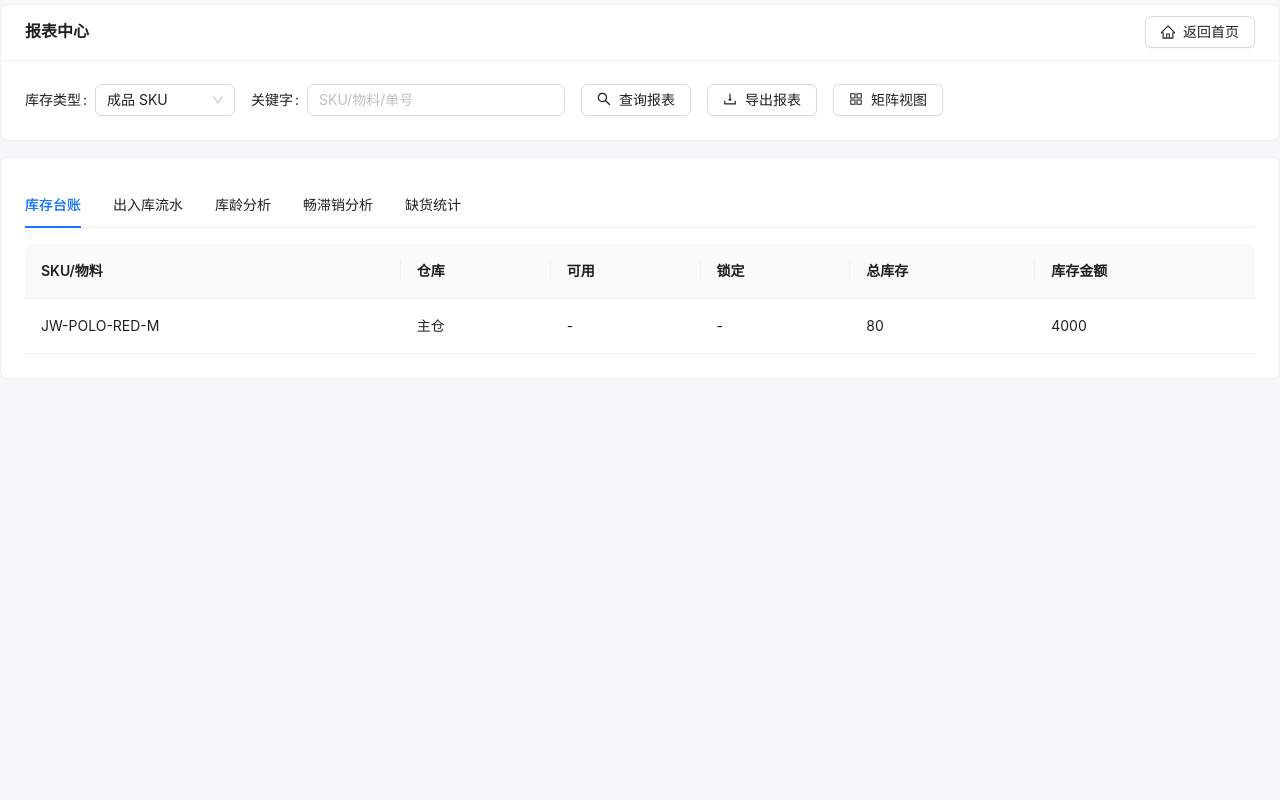
Test case: ReportCenterPage › loads the ledger matrix view
Expected: the text "JW-POLO-RED-M" is shown, [25,298,401,354]
Click the button "矩阵视图": (888, 100) [833,84,943,116]
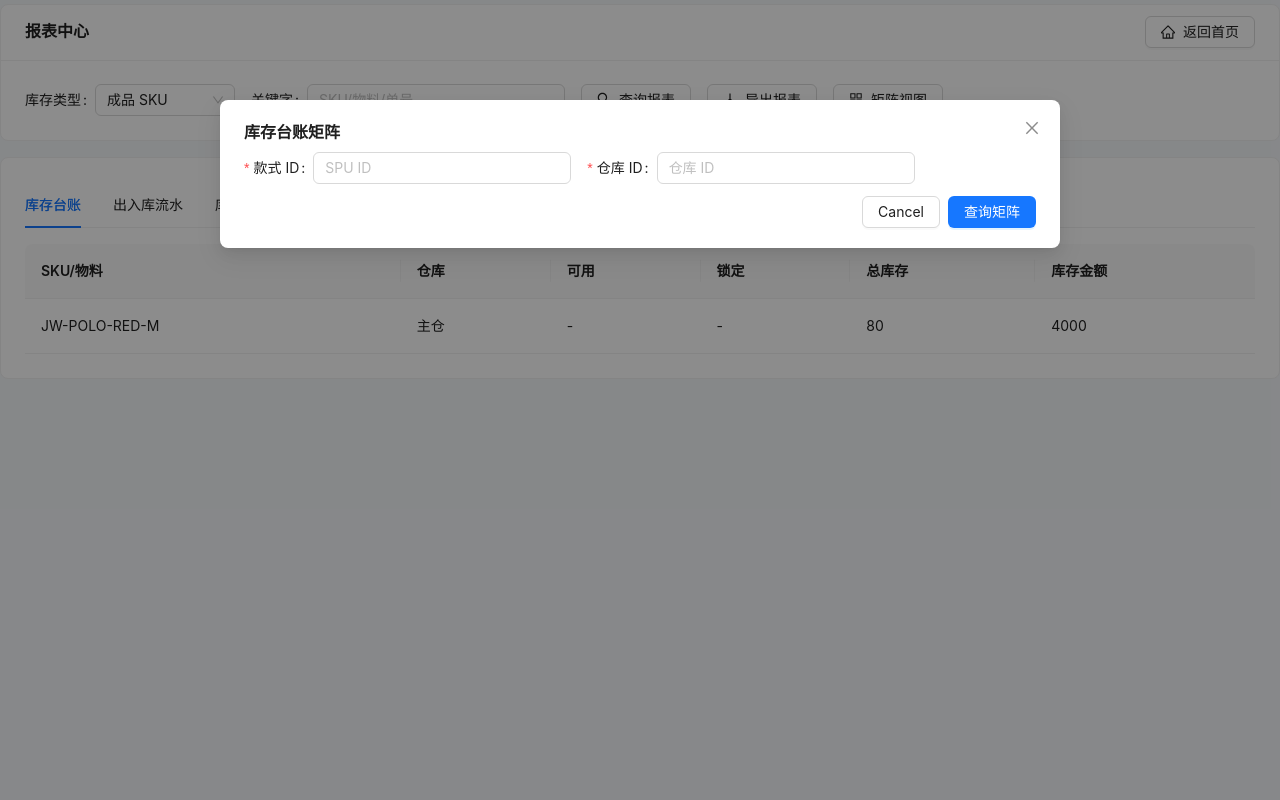
In the field labelled "款式 ID": (434, 168) [325,157,543,179], type "80001"
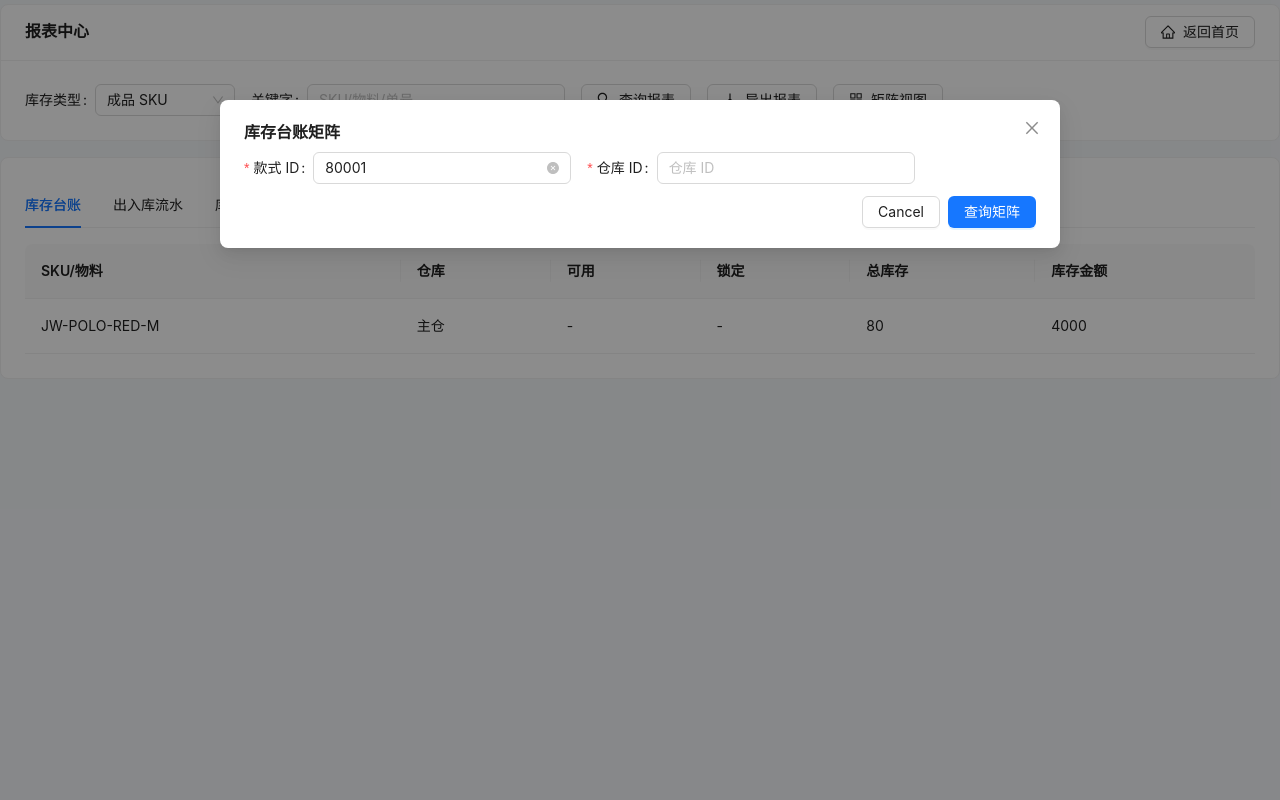
In the field labelled "仓库 ID": (778, 168) [669,157,887,179], type "30001"
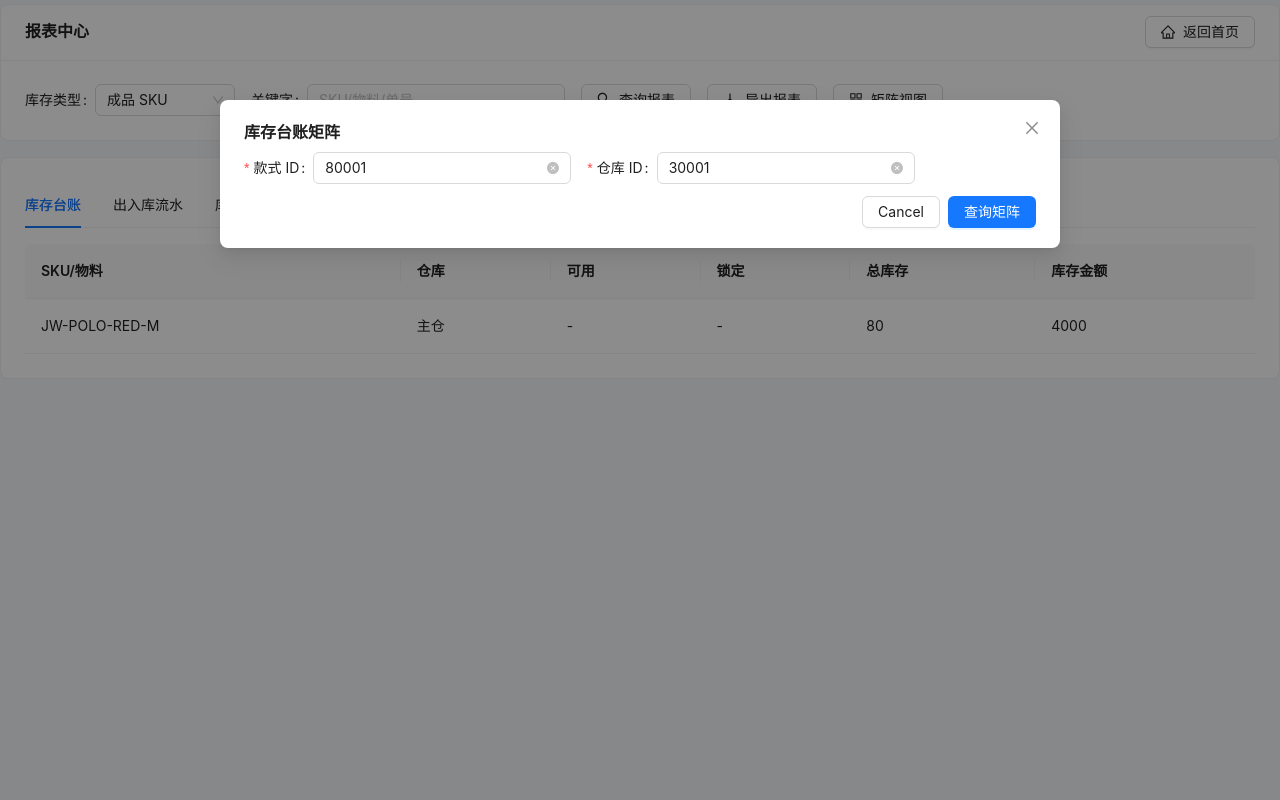
Click the button "查询矩阵": (992, 212) [948,196,1036,228]
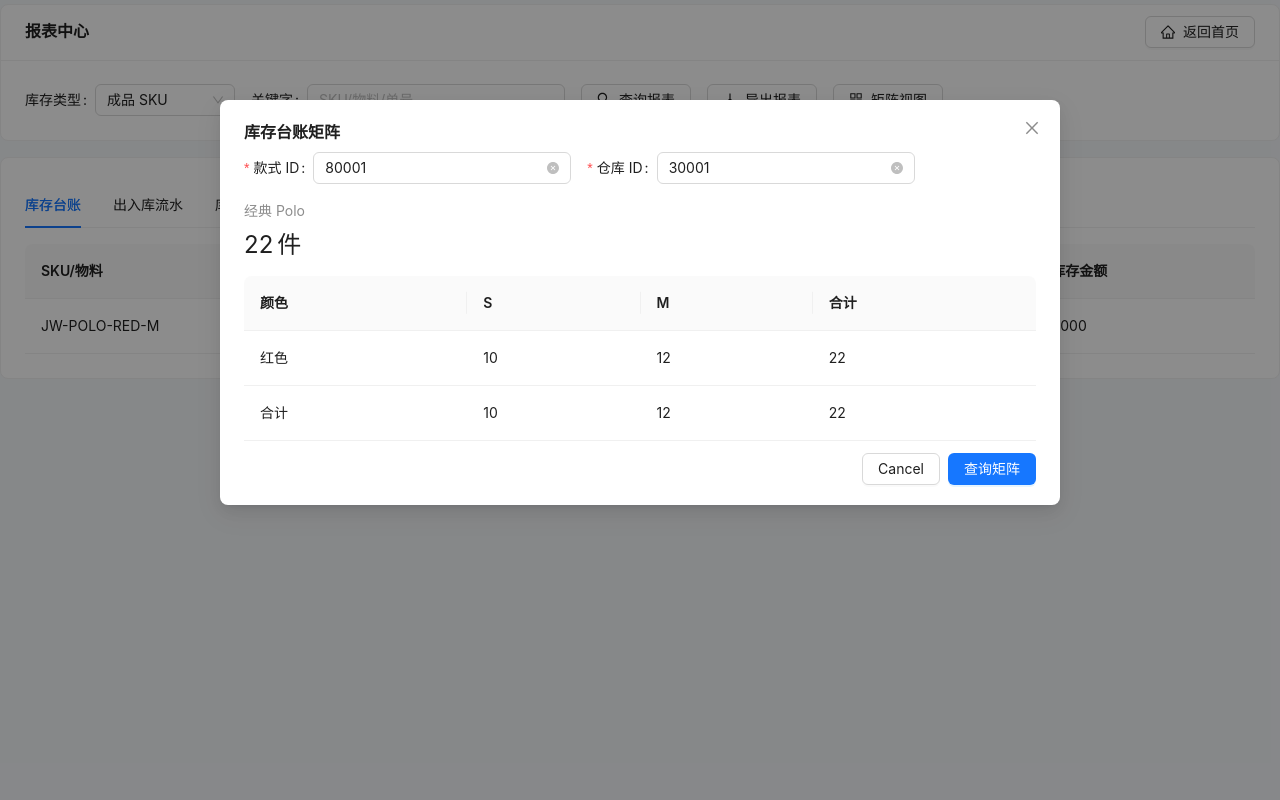
Now the text "经典 Polo" is shown, box [244,202,305,219]
Now the text "红色" is shown, box [244,331,467,386]
